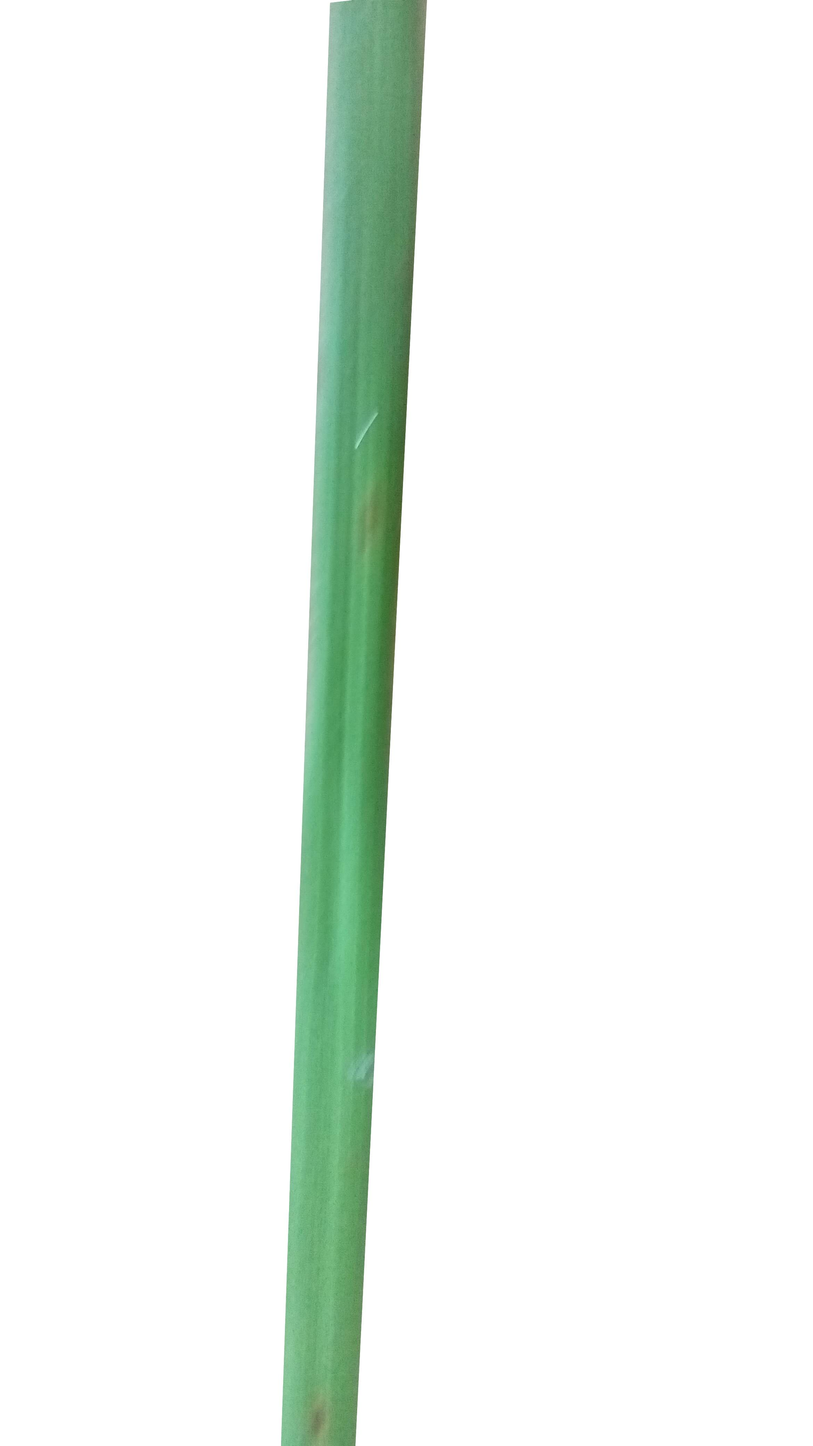Brown spot: (302, 1383, 389, 1422)
